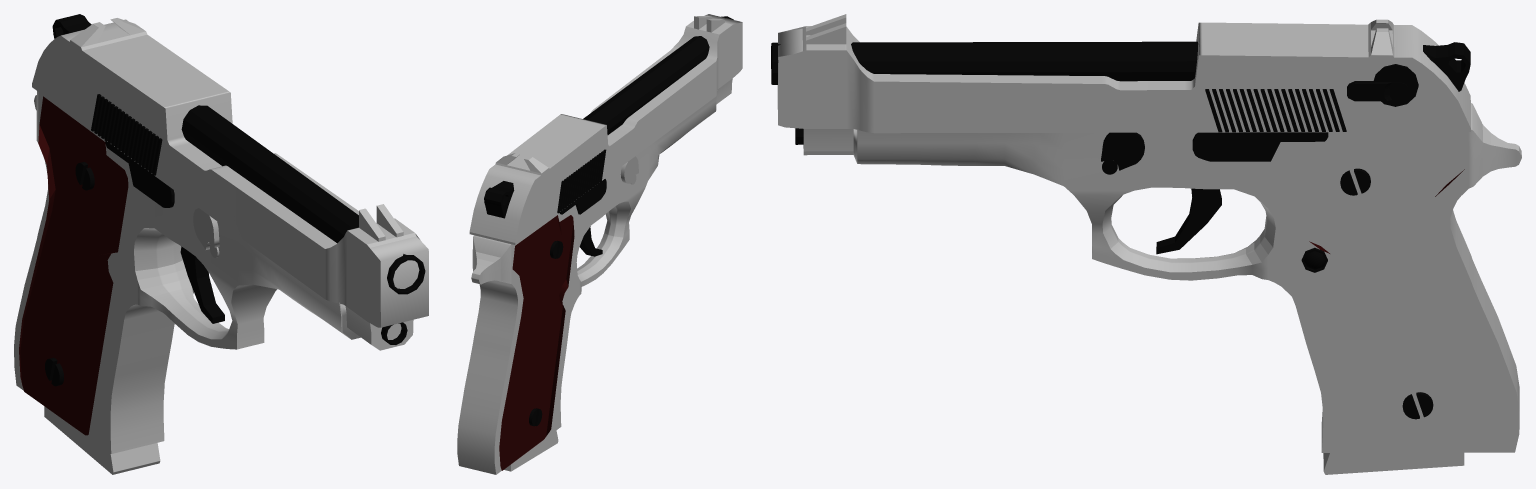
The model's file is gun.fbx.
3 renders of one model, left to right at view 1: azimuth 30°, elevation 25°; view 2: azimuth 150°, elevation 25°; view 3: azimuth 270°, elevation 25°, orthographic. The views are drawn at different scales.
Visible parts, largest first — view 1: polySurface65, polySurface64, polySurface67, polySurface82, polySurface68, polySurface86, polySurface78, polySurface77; view 2: polySurface64, polySurface65, polySurface67, polySurface82, polySurface77, polySurface86, polySurface78, polySurface68; view 3: polySurface64, polySurface65, polySurface82, polySurface126, polySurface68, polySurface77, polySurface80, polySurface121, polySurface122.
Part boxes in pixels (bbox=[...]): polySurface65: bbox=[32, 18, 428, 327]; polySurface64: bbox=[14, 91, 413, 474]; polySurface67: bbox=[19, 96, 128, 435]; polySurface82: bbox=[181, 105, 425, 294]; polySurface68: bbox=[180, 246, 224, 323]; polySurface86: bbox=[105, 141, 174, 207]; polySurface78: bbox=[193, 208, 219, 249]; polySurface77: bbox=[52, 14, 91, 38]; polySurface64: bbox=[457, 78, 732, 474]; polySurface65: bbox=[469, 14, 742, 244]; polySurface67: bbox=[499, 215, 574, 470]; polySurface82: bbox=[583, 16, 733, 134]; polySurface77: bbox=[484, 181, 514, 218]; polySurface86: bbox=[559, 179, 606, 214]; polySurface78: bbox=[620, 156, 638, 183]; polySurface68: bbox=[579, 226, 602, 256]; polySurface64: bbox=[803, 103, 1521, 474]; polySurface65: bbox=[777, 14, 1470, 133]; polySurface82: bbox=[771, 41, 1198, 84]; polySurface126: bbox=[1192, 132, 1328, 161]; polySurface68: bbox=[1156, 188, 1221, 254]; polySurface77: bbox=[1423, 42, 1470, 91]; polySurface80: bbox=[1101, 132, 1144, 170]; polySurface121: bbox=[1347, 81, 1409, 101]; polySurface122: bbox=[1373, 64, 1418, 106].
Bounding box in the file's own units: 2.23 × 11.87 × 18.2.
